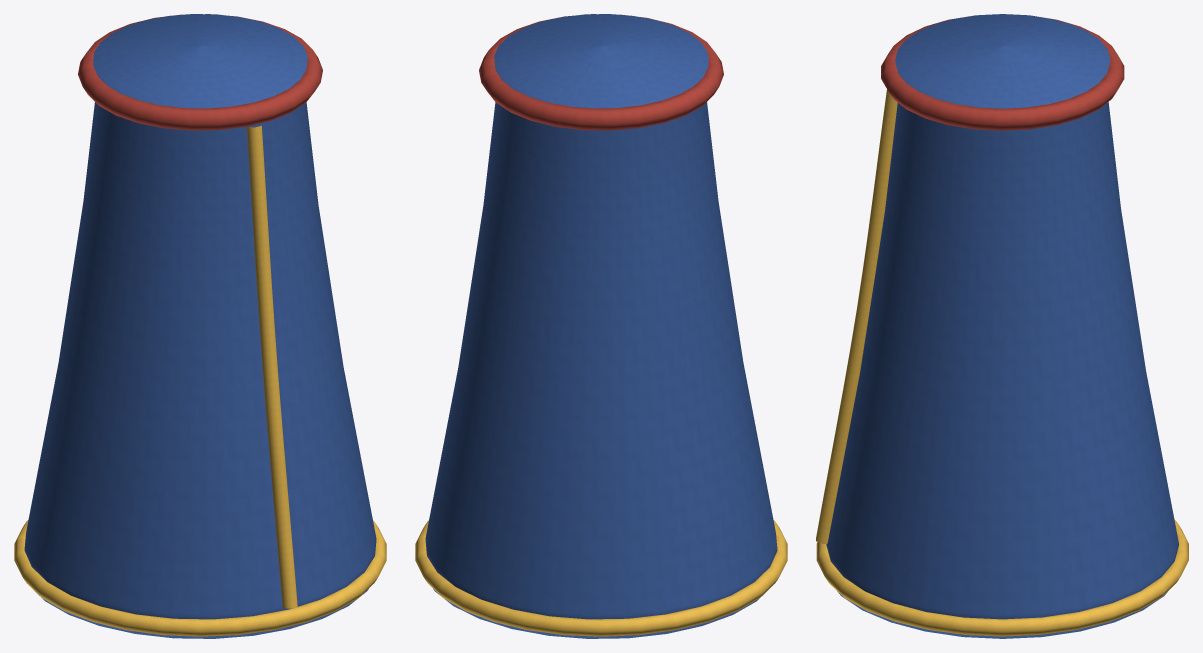
File: platelegs_cloth.glb
3 views of the same model, side by side, from view 1: azimuth 30°, elevation 25°; view 2: azimuth 150°, elevation 25°; view 3: azimuth 270°, elevation 25° (orthographic).
Parts seen in each view (by area): view 1: platelegs_cloth; view 2: platelegs_cloth; view 3: platelegs_cloth.
Boxes of the visible parts, box(x1,y1,x2,y2) form: platelegs_cloth: box(14, 14, 386, 638); platelegs_cloth: box(415, 14, 787, 638); platelegs_cloth: box(816, 14, 1188, 638).
Bounding box in the file's own units: 0.522 × 0.795 × 0.5198.
3 materials, 3 textured.
